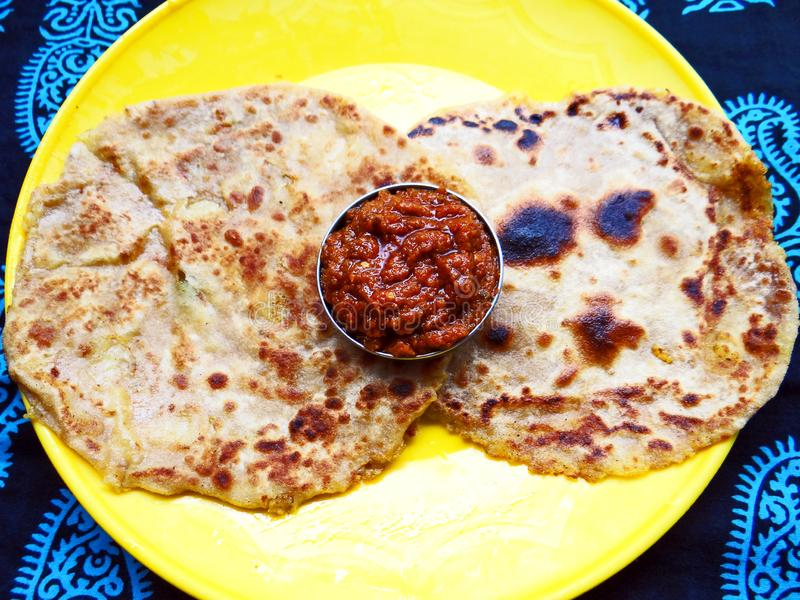aloo_paratha: (2, 83, 792, 505)
